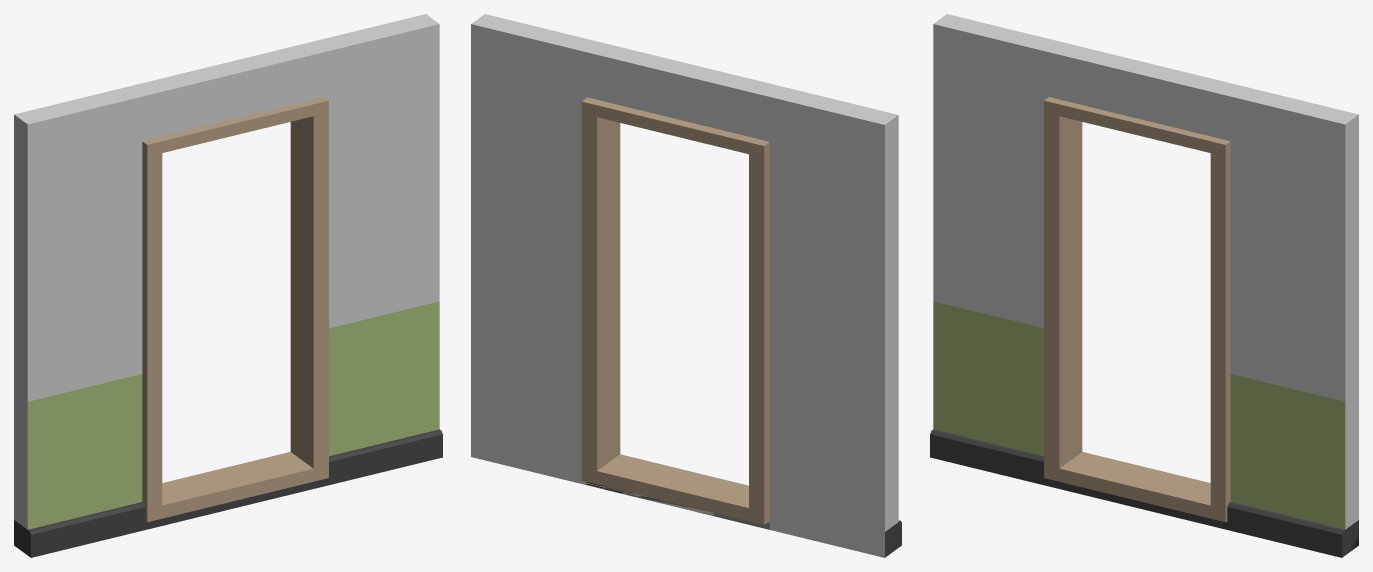
File: Kinder2_Wall_Door.fbx
The picture shows the model from 3 angles, left to right: view 1: azimuth 30°, elevation 25°; view 2: azimuth 150°, elevation 25°; view 3: azimuth 330°, elevation 25°; orthographic projection.
Parts seen in each view (by area): view 1: WallFloor2_04; view 2: WallFloor2_04; view 3: WallFloor2_04.
Boxes of the visible parts, bbox=[...] form: WallFloor2_04: bbox=[14, 14, 442, 557]; WallFloor2_04: bbox=[471, 14, 901, 557]; WallFloor2_04: bbox=[930, 14, 1358, 557].
Bounding box in the file's own units: 250 × 250 × 24.16.
